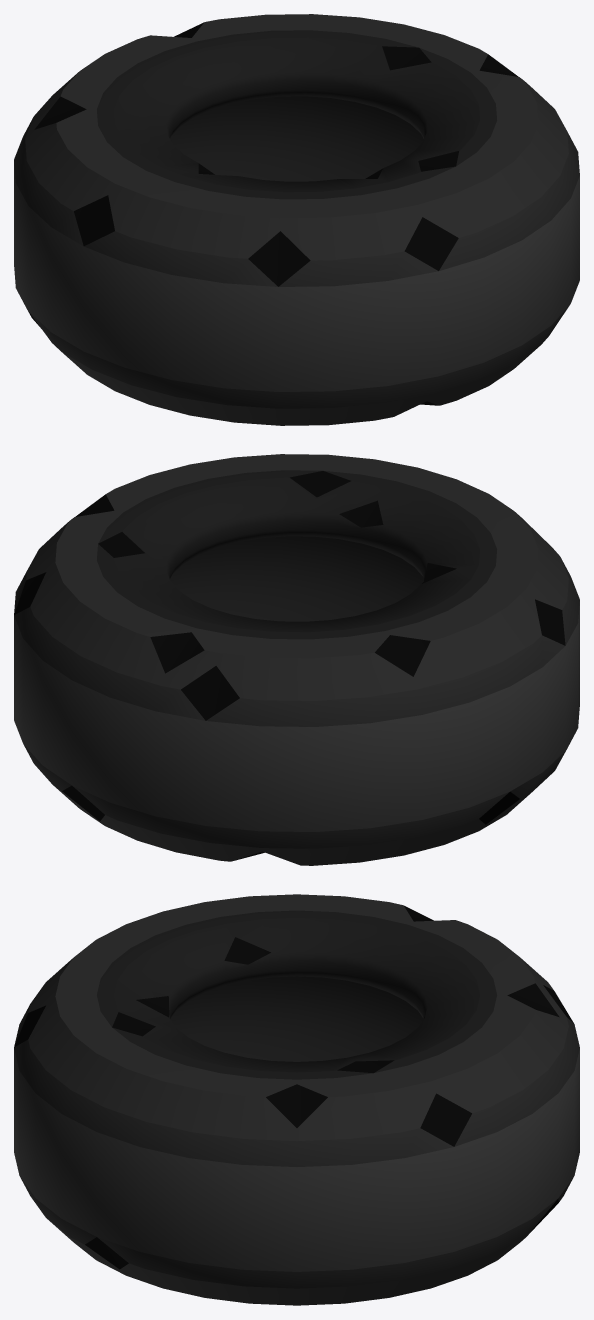
The model's file is Wheel.fbx.
3 views of the same model, one above another, from view 1: azimuth 30°, elevation 25°; view 2: azimuth 150°, elevation 25°; view 3: azimuth 270°, elevation 25° (orthographic).
Visible parts, largest first — view 1: Wheel; view 2: Wheel; view 3: Wheel.
Boxes of the visible parts, x1=… form: Wheel: x1=14, y1=14, x2=579, y2=425; Wheel: x1=14, y1=454, x2=579, y2=865; Wheel: x1=14, y1=894, x2=579, y2=1305.
Size of the model in its own units: 128 by 52.45 by 128.
